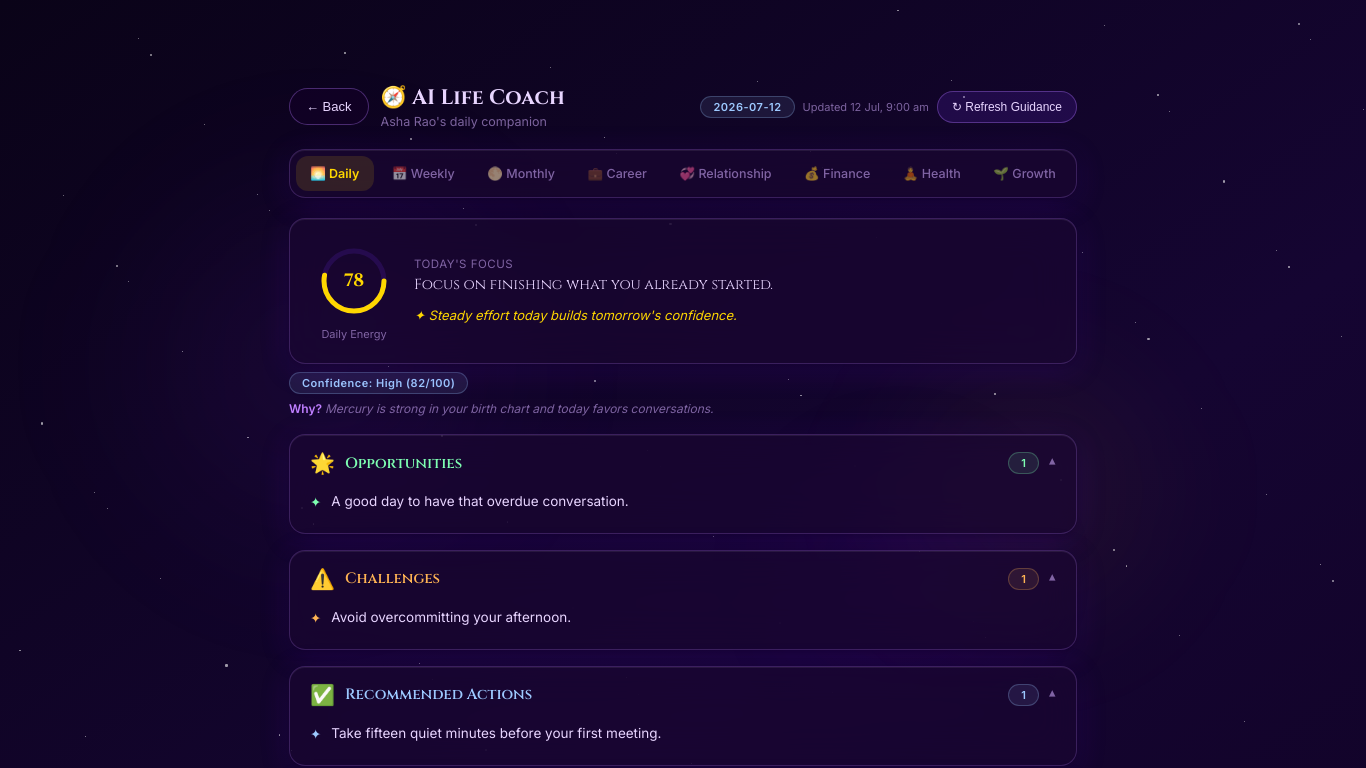
Test case: AILifeCoachPage › switches to the Weekly section and shows the backend-computed Best/Caution Day plus the AI theme
Expected: the text "Focus on finishing what you already started." is shown, [414,275,773,294]
Step 1. Click the button "📅 Weekly" → x=423, y=174, box [378,156,469,191]
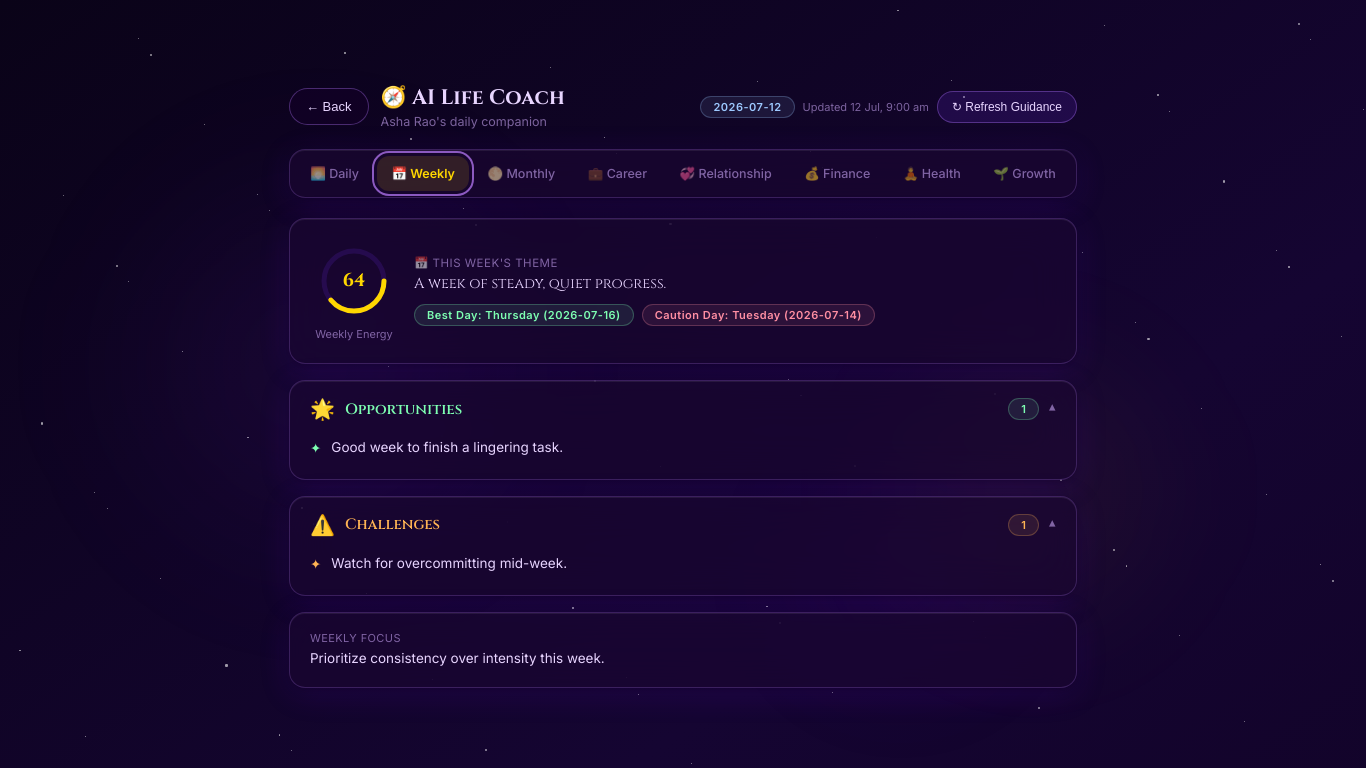
Expected: the text "A week of steady, quiet progress." is shown, [414,274,666,293]
Expected: the text "Best Day: Thursday (2026-07-16)" is shown, [414,304,634,326]
Expected: the text "Caution Day: Tuesday (2026-07-14)" is shown, [642,304,875,326]
